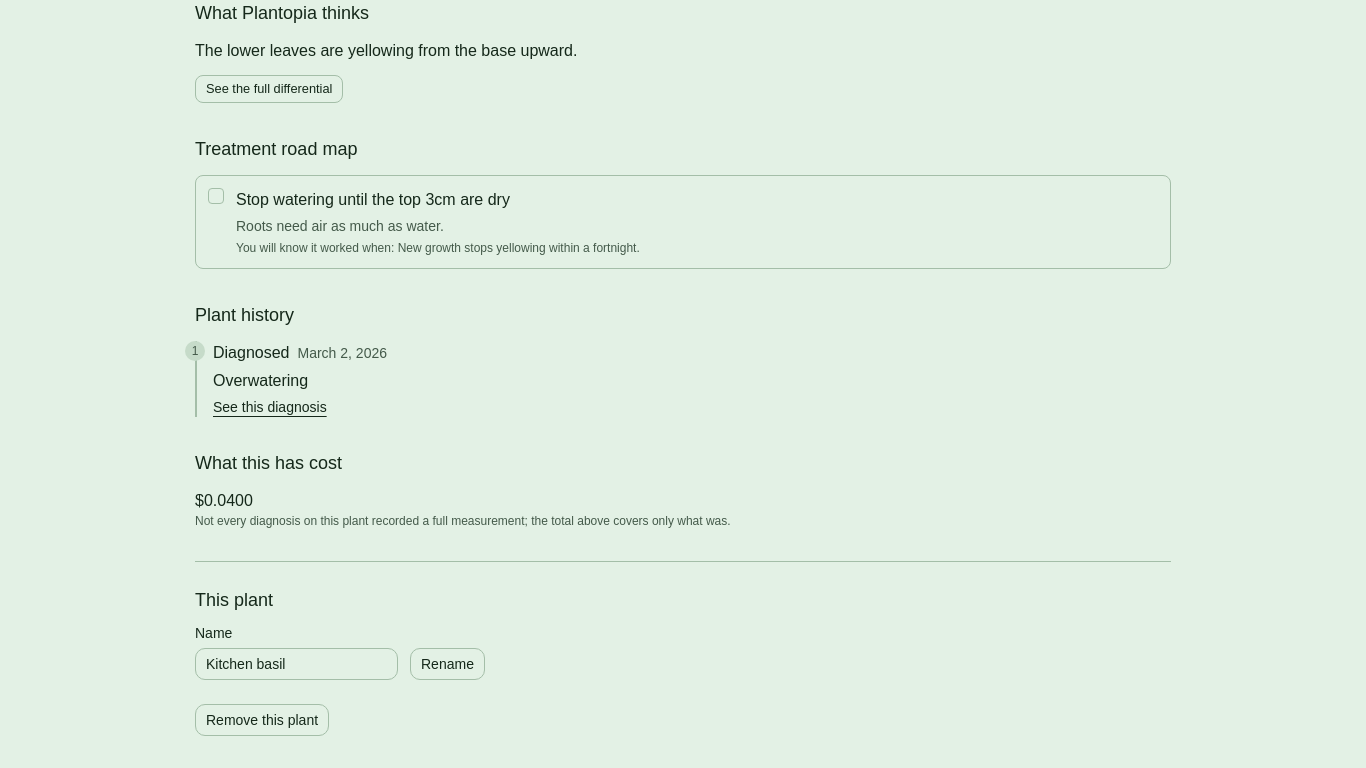
renaming and removing › does not remove a plant in one click
(page scrolled)
Click the button "Remove this plant".
click(262, 720)  # box [195, 704, 329, 736]
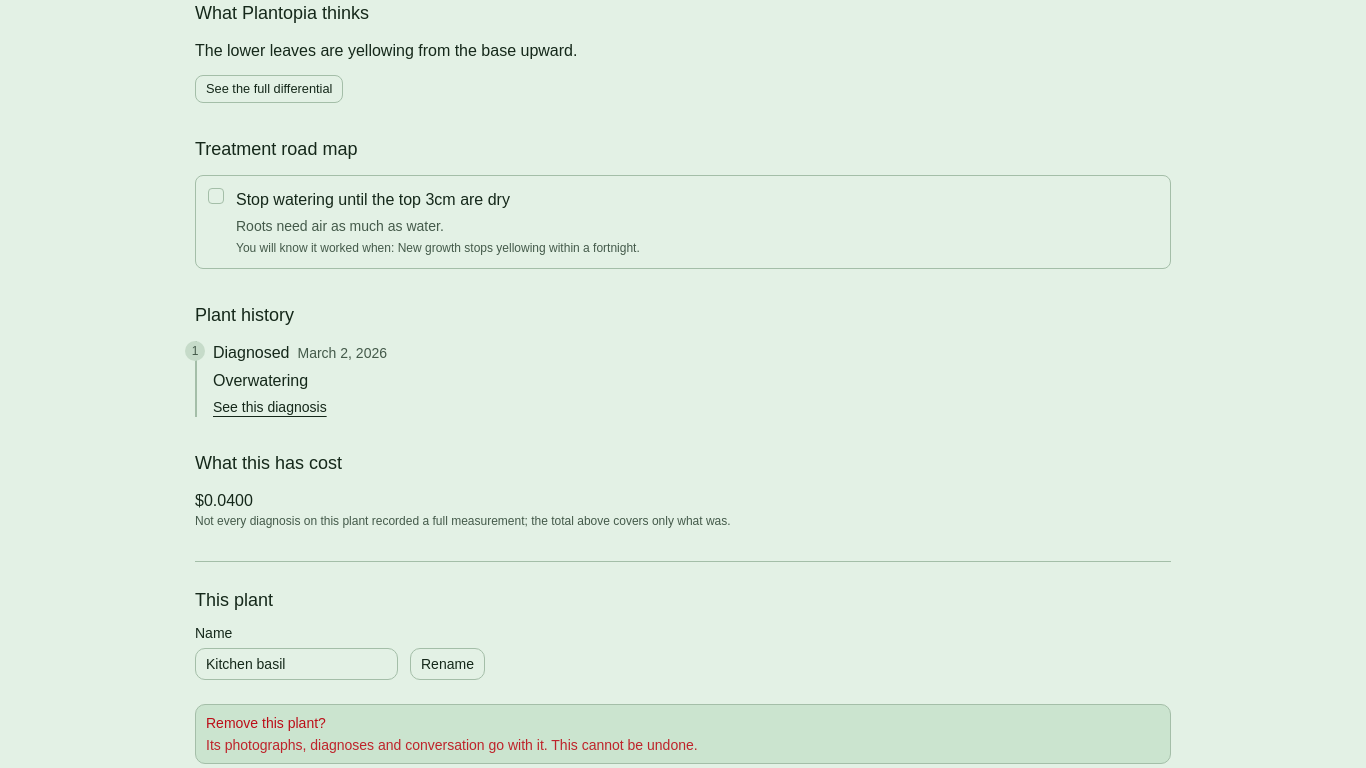
Check: the message shows "cannot be undone", box [206, 737, 698, 753]
